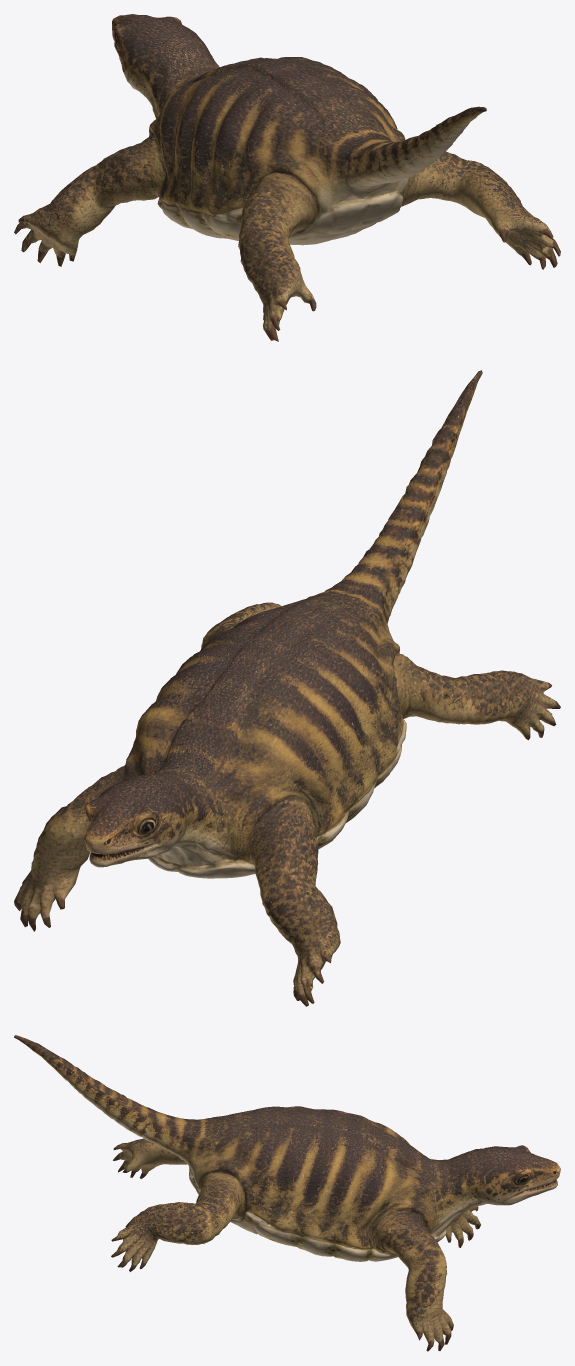
Rendered from odontochelys.preview.glb.
3 renders of one model, top to bottom at view 1: azimuth 30°, elevation 25°; view 2: azimuth 150°, elevation 25°; view 3: azimuth 270°, elevation 25°, orthographic. The views are drawn at different scales.
Parts seen in each view (by area): view 1: tripo_node_2e5595f5-1dfa-4cff-8d9b-f507c92f4c17.001; view 2: tripo_node_2e5595f5-1dfa-4cff-8d9b-f507c92f4c17.001; view 3: tripo_node_2e5595f5-1dfa-4cff-8d9b-f507c92f4c17.001.
Boxes of the visible parts, x1=… form: tripo_node_2e5595f5-1dfa-4cff-8d9b-f507c92f4c17.001: x1=14, y1=14, x2=560, y2=341; tripo_node_2e5595f5-1dfa-4cff-8d9b-f507c92f4c17.001: x1=14, y1=370, x2=560, y2=1006; tripo_node_2e5595f5-1dfa-4cff-8d9b-f507c92f4c17.001: x1=14, y1=1035, x2=560, y2=1351.
Size of the model in its own units: 0.5112 by 0.5305 by 1.
Materials: 1 (1 with a texture image).
